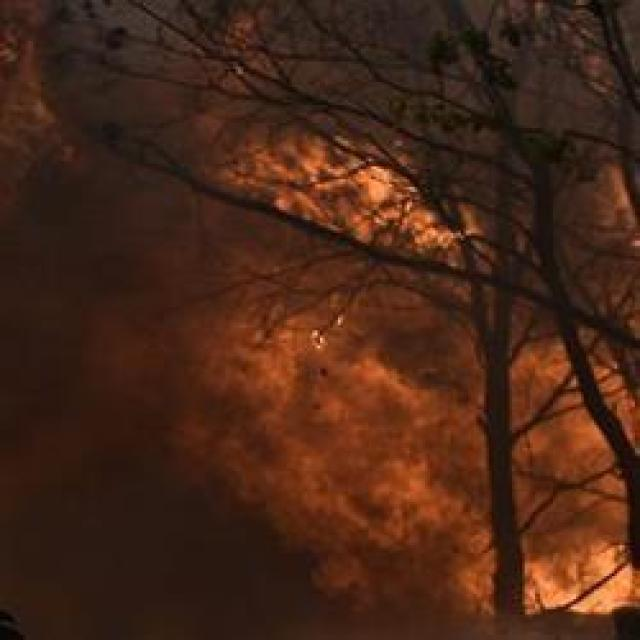Fire: (274, 142, 428, 232), (530, 541, 628, 616)
